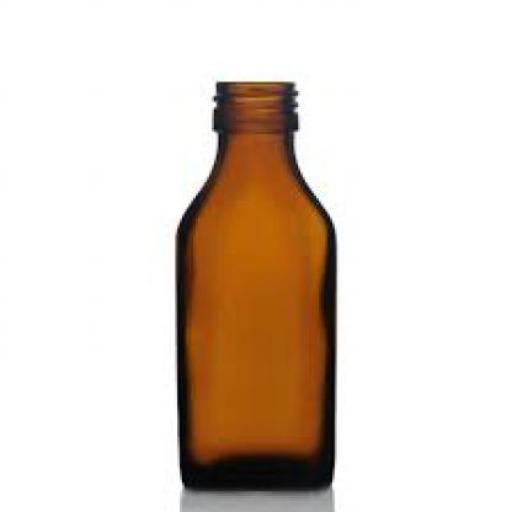glass: (173, 80, 334, 490)
